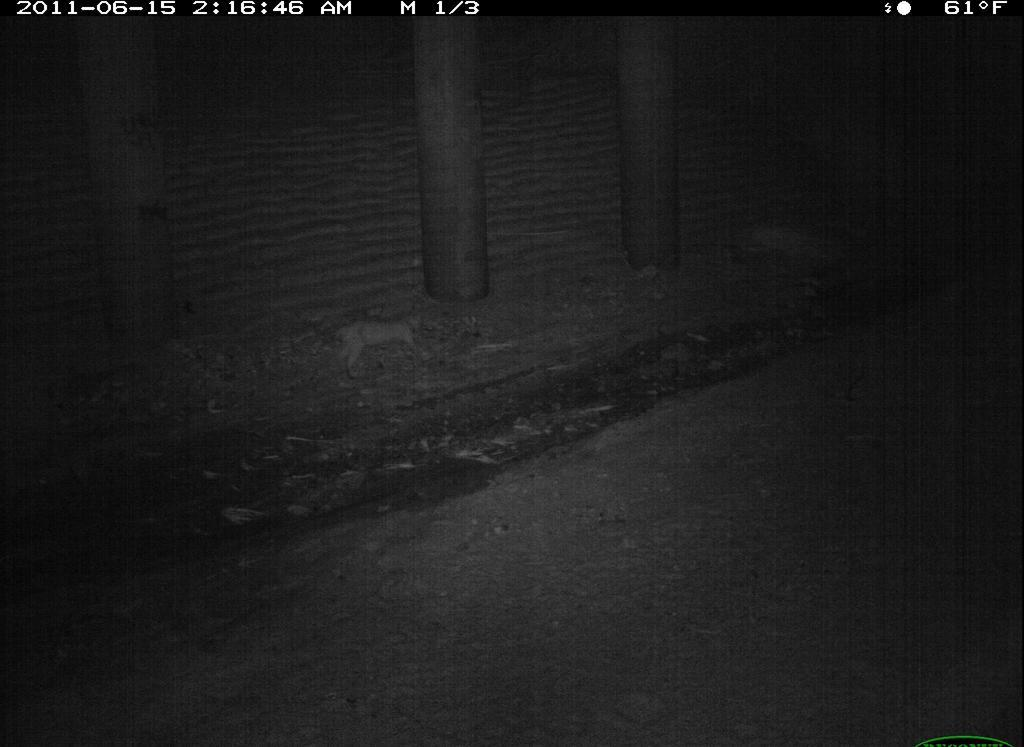bobcat: (657, 618, 870, 747)
